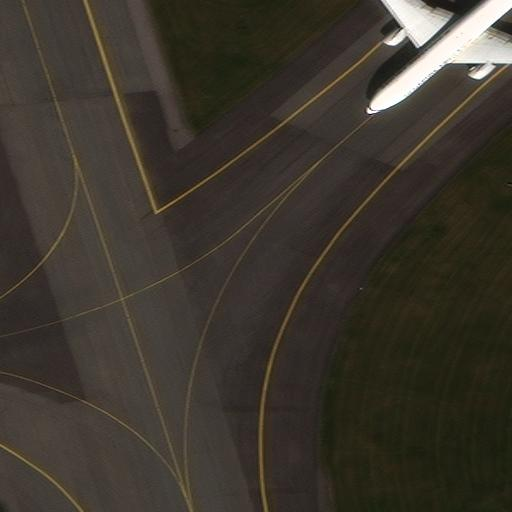Large Civil Transport: (355, 0, 512, 115)
